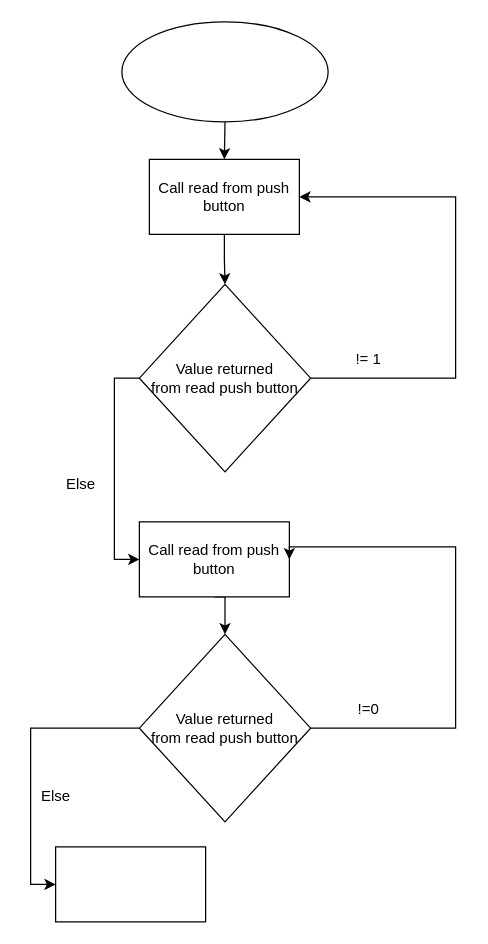
The diagram is 488 pixels wide and 944 high, and some of its shapes have lost their labels. The shapes that lost their labels are listed below. From the top down, each one's box as (x1, y1, x2, y2) in pixels, then its label:
(121, 21, 328, 122): Start
(54, 846, 206, 922): End
